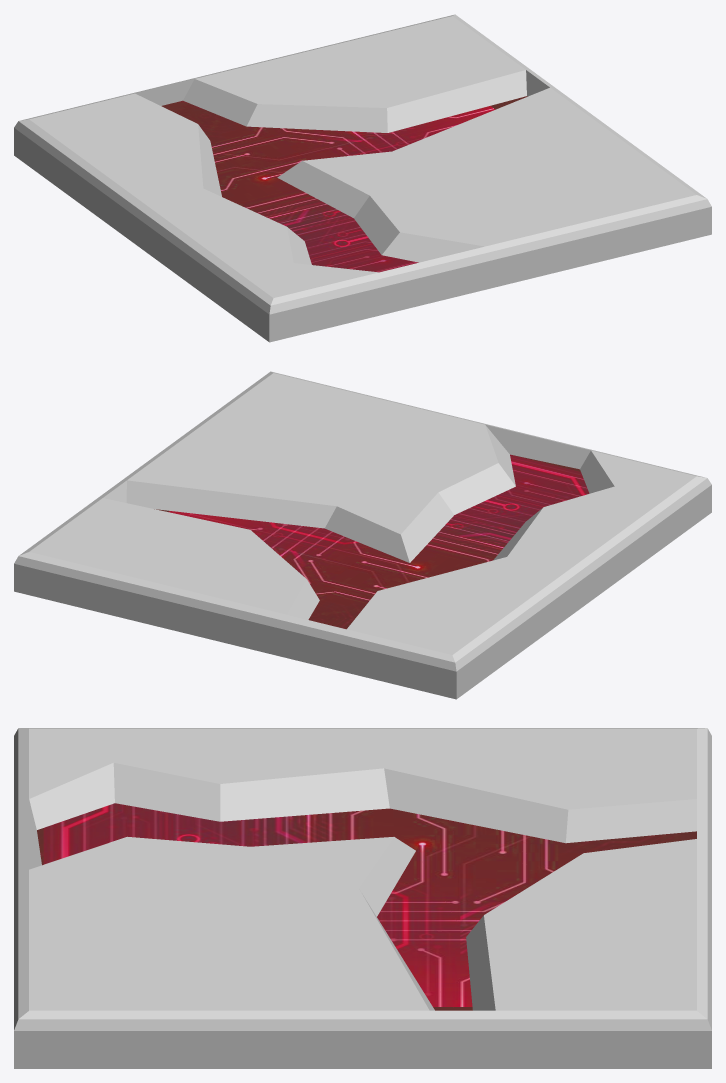
File: Floor06.fbx
The picture shows the model from 3 angles, top to bottom: view 1: azimuth 30°, elevation 25°; view 2: azimuth 150°, elevation 25°; view 3: azimuth 270°, elevation 25°; orthographic projection. The views are drawn at different scales.
Visible parts, largest first — view 1: Cube.018; view 2: Cube.018; view 3: Cube.018.
Boxes of the visible parts, x1,y1,x2,y2 form: Cube.018: (14,14,711,342); Cube.018: (14,371,711,699); Cube.018: (14,728,711,1068).
Bounding box in the file's own units: 200 × 200 × 16.38.
